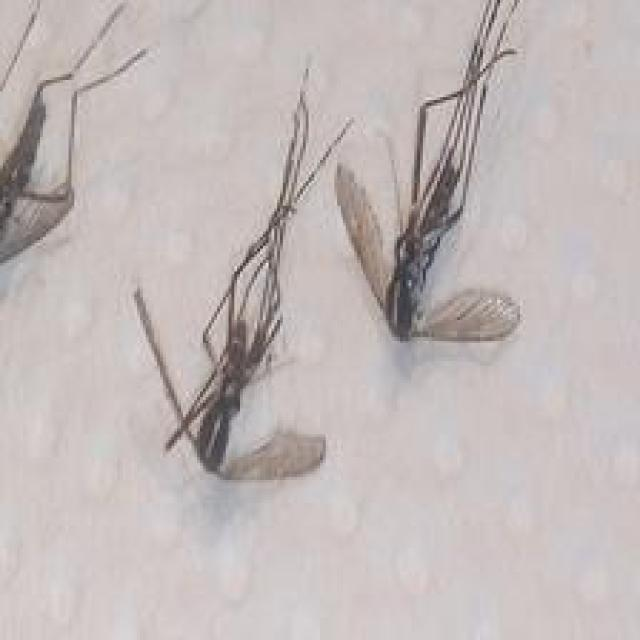Aedes albopictus: (132, 63, 357, 480)
